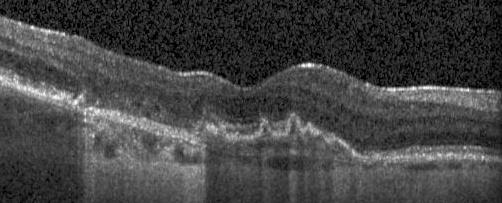intraretinal_cyst: (0, 50, 83, 94)
subretinal_hyperreflective_material: (198, 113, 385, 160)
